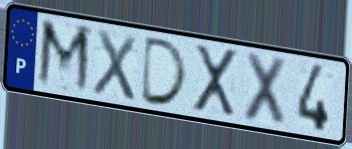4: (295, 62, 333, 135)
D: (138, 34, 191, 109)
M: (34, 16, 94, 98)
X: (240, 49, 290, 131), (90, 26, 139, 105), (192, 42, 239, 119)
